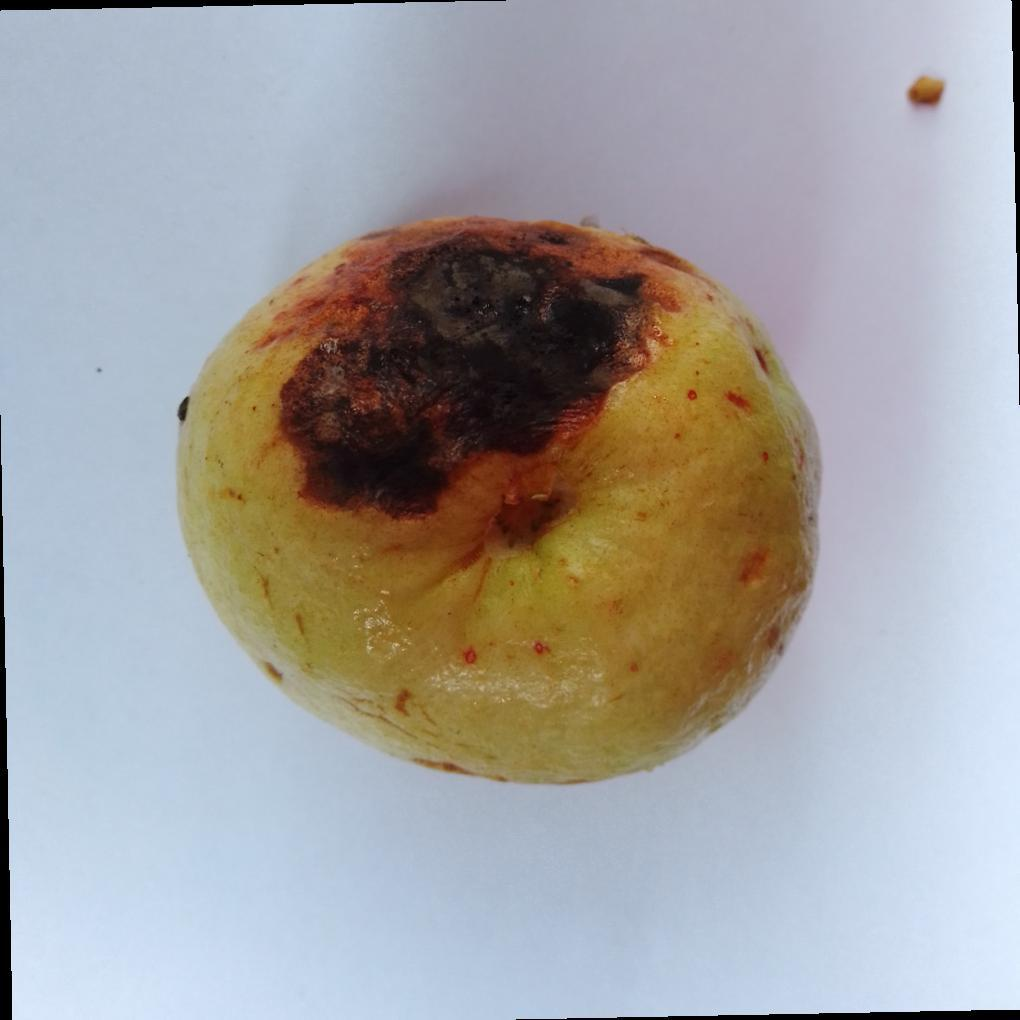FreshOrange: (174, 218, 825, 791)
